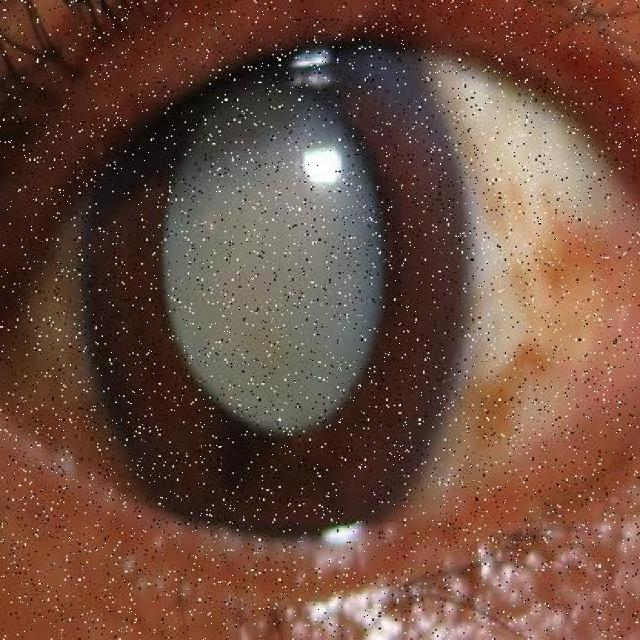Cataract: (73, 38, 492, 573)
